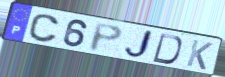6: (62, 19, 89, 48)
C: (26, 13, 61, 44)
D: (151, 33, 184, 66)
J: (122, 29, 155, 61)
K: (184, 39, 215, 72)
P: (88, 21, 125, 53)
